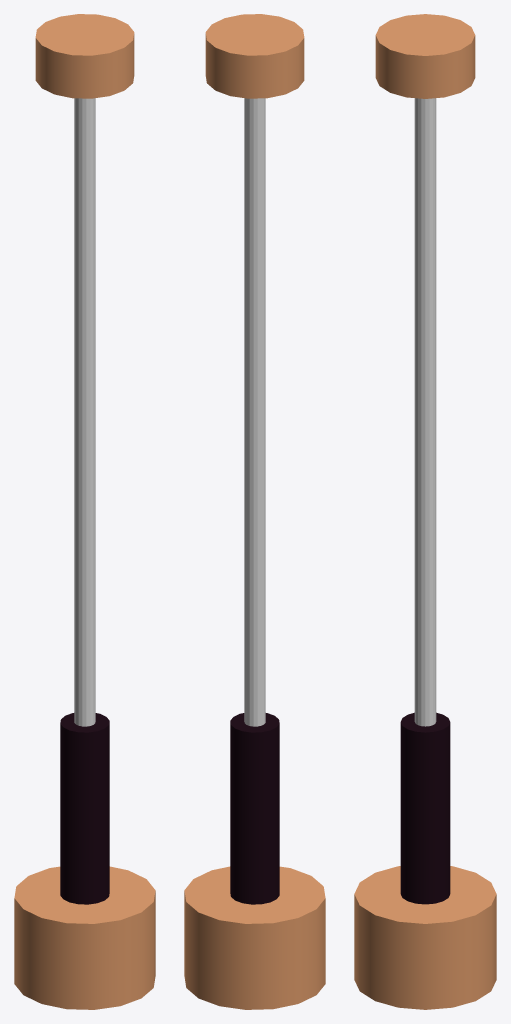
Rendered from _amp.fbx.
3 views of the same model, side by side, from view 1: azimuth 30°, elevation 25°; view 2: azimuth 150°, elevation 25°; view 3: azimuth 270°, elevation 25° (orthographic).
Parts seen in each view (by area): view 1: Lamp; view 2: Lamp; view 3: Lamp.
Boxes of the visible parts, x1,y1,x2,y2 form: Lamp: [14, 14, 155, 1009]; Lamp: [184, 14, 325, 1009]; Lamp: [354, 14, 496, 1009].
Bounding box in the file's own units: 0.15 × 1.1 × 0.15.
